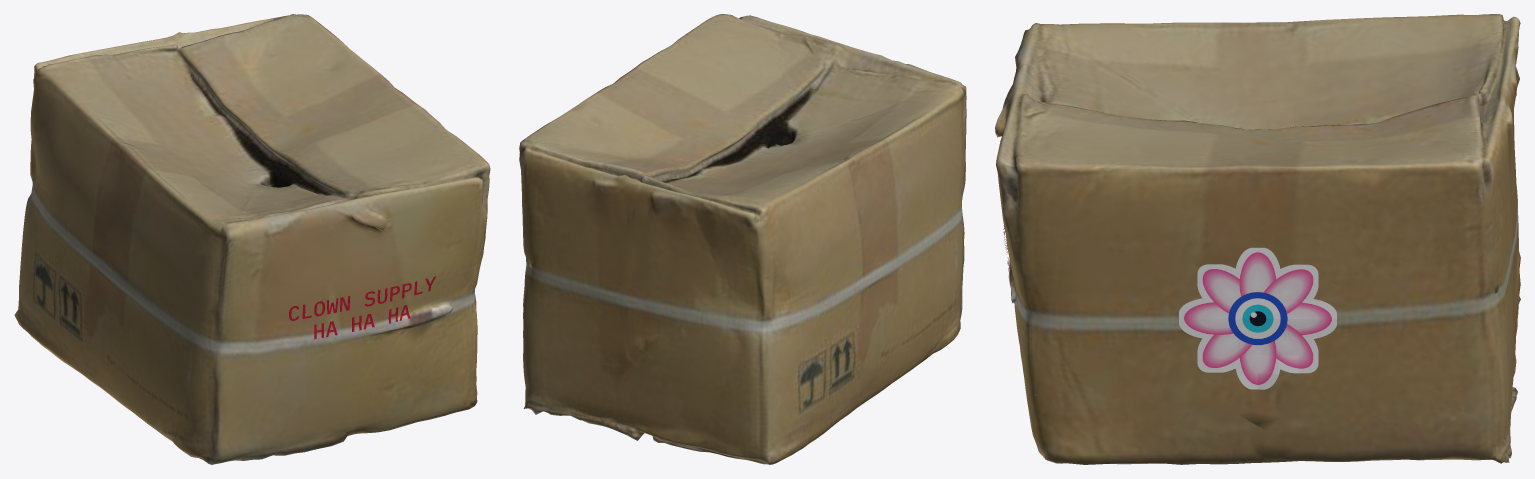
The model's file is nyb_stairs_box.glb.
3 views of the same model, side by side, from view 1: azimuth 30°, elevation 25°; view 2: azimuth 150°, elevation 25°; view 3: azimuth 270°, elevation 25° (orthographic). The views are drawn at different scales.
Visible parts, largest first — view 1: cardboard_box_01, stk_lbl_67fc533b03.png; view 2: cardboard_box_01; view 3: cardboard_box_01, stk_eyeflower_die.png.
Part boxes in pixels (x1,y1,x2,y2): cardboard_box_01: (14, 14, 490, 464); stk_lbl_67fc533b03.png: (289, 276, 435, 339); cardboard_box_01: (519, 14, 966, 464); cardboard_box_01: (995, 14, 1520, 464); stk_eyeflower_die.png: (1179, 247, 1336, 389).
Size of the model in its own units: 0.3872 by 0.3418 by 0.5159.
Materials: 3 (3 with a texture image).
